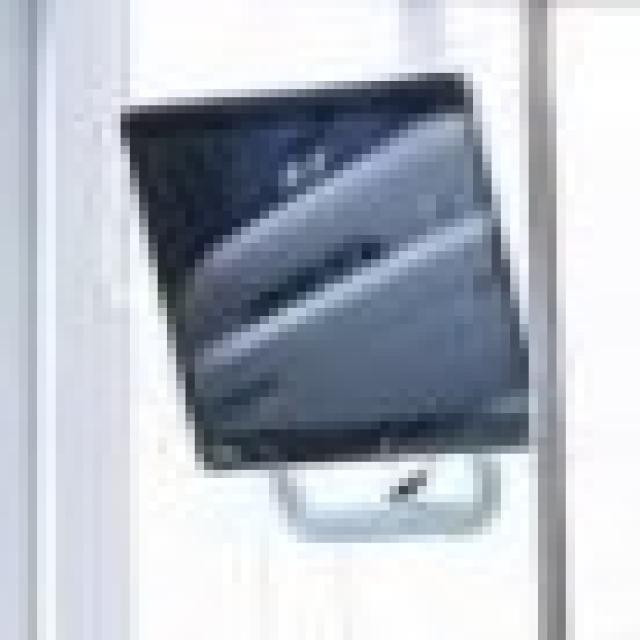Monitor: (106, 68, 544, 557)
